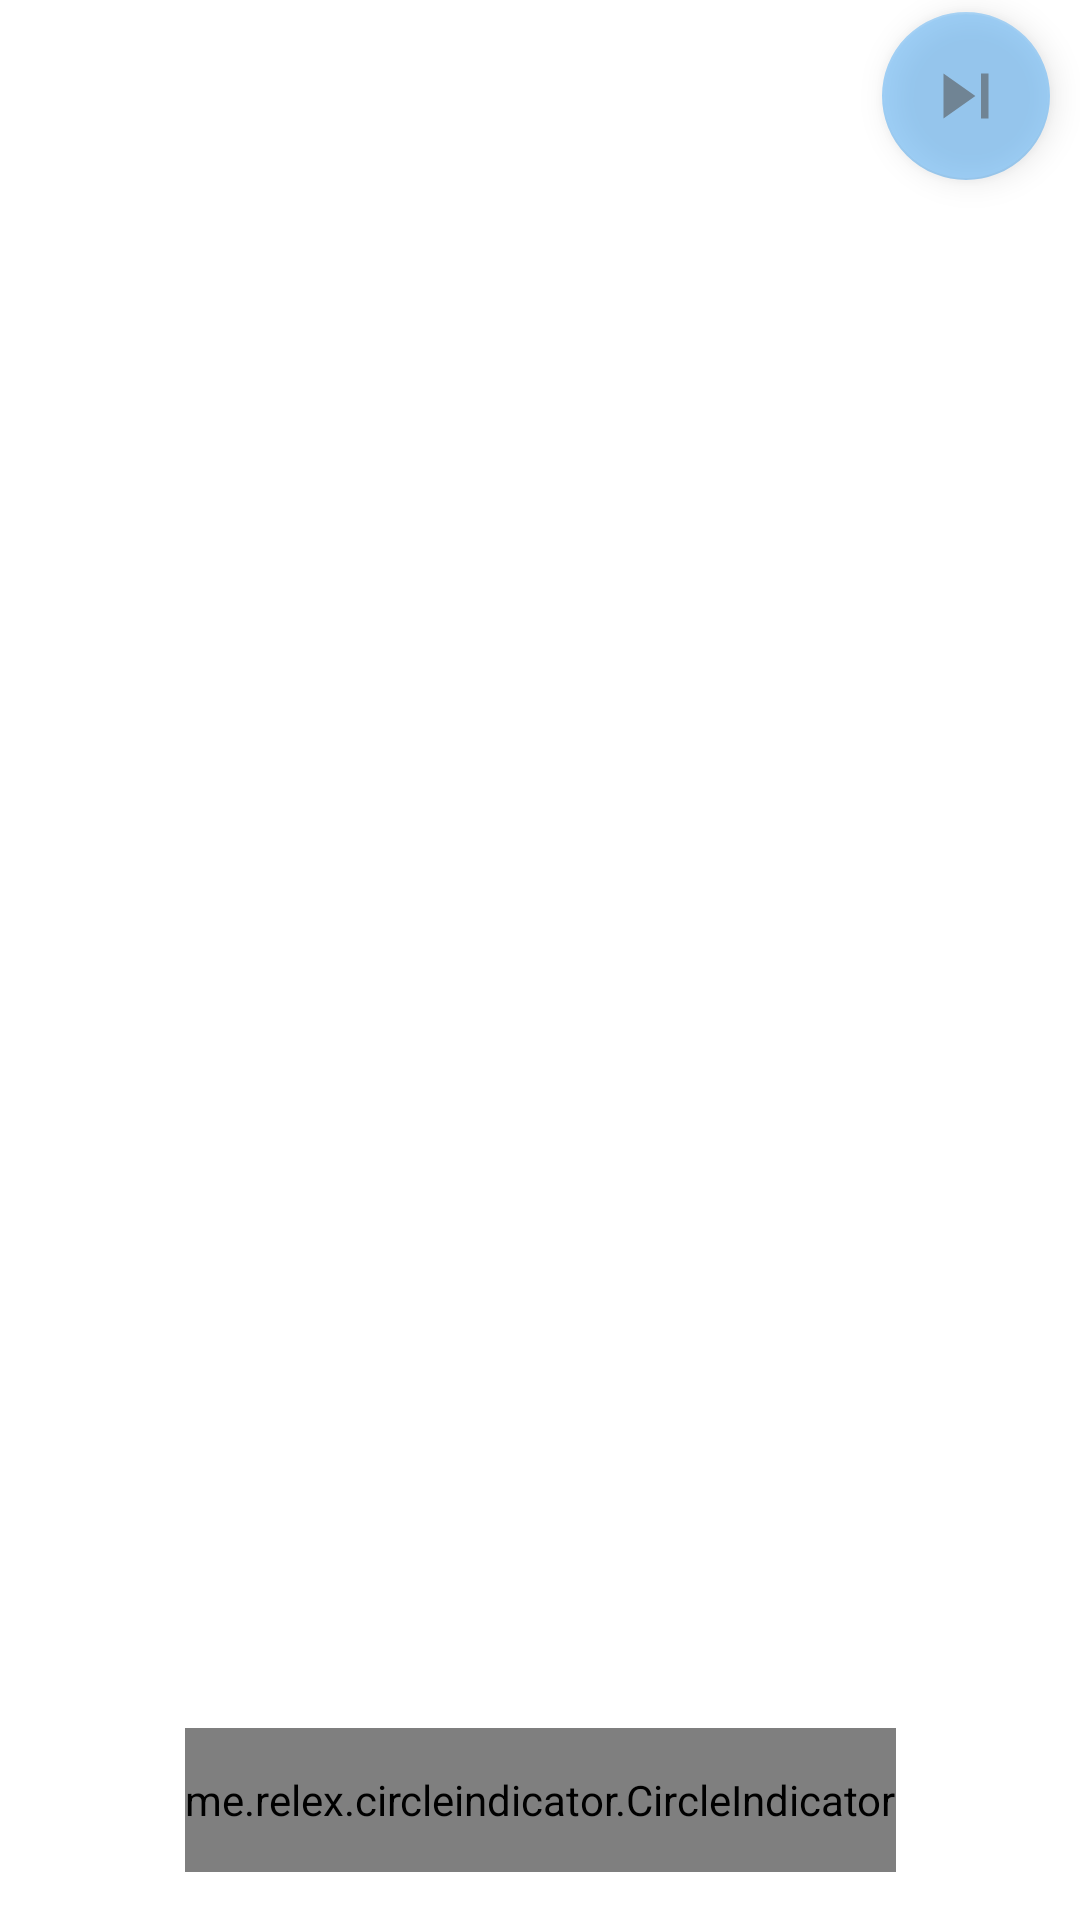

Named icons in this screenshot (1080×1920) and their centers, [x,y]:
Skip: [966,96]
